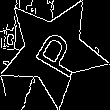P_NW: (23, 22, 84, 80)
